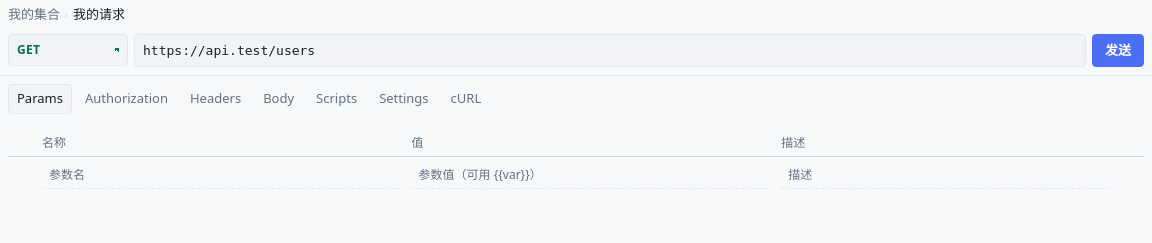
Scenario: 描述列（spec: 键值表的列与描述列） › 幽灵行的描述输入即把这一行写进模型，且不打断正在输入的元素
Type "只写说明" into the field named "新增行的描述".
click(946, 174); type("只写说明")  # box [781,160,1110,188]
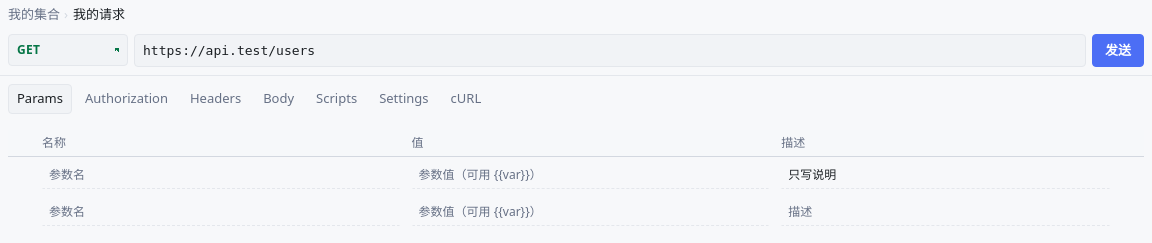
Now the field named "下一行的描述" is shown, box [781,198,1110,226]
